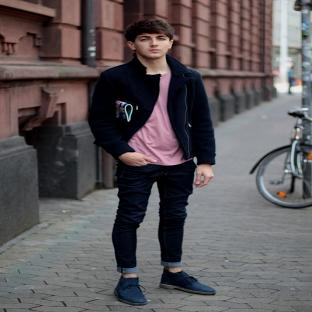Human: (89, 20, 216, 305)
